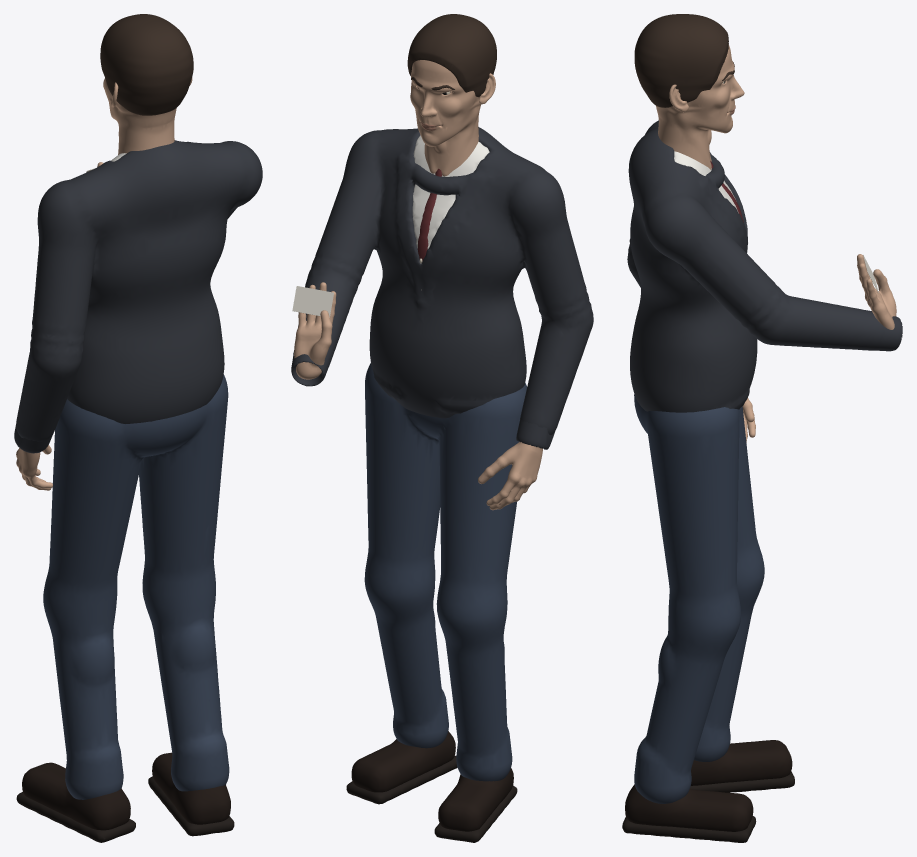
The model's file is goodshoes_card.glb.
The picture shows the model from 3 angles, left to right: view 1: azimuth 30°, elevation 25°; view 2: azimuth 150°, elevation 25°; view 3: azimuth 270°, elevation 25°; orthographic projection. The views are drawn at different scales.
Parts seen in each view (by area): view 1: goodshoes_card_body, goodshoes_card_head, goodshoes_card_hands; view 2: goodshoes_card_body, goodshoes_card_head, goodshoes_card_hands, card; view 3: goodshoes_card_body, goodshoes_card_head, goodshoes_card_hands.
Boxes of the visible parts, x1,y1,x2,y2 form: goodshoes_card_body: (16, 140, 262, 842); goodshoes_card_head: (100, 14, 193, 154); goodshoes_card_hands: (14, 162, 103, 490); goodshoes_card_body: (293, 127, 593, 842); goodshoes_card_head: (407, 14, 496, 176); goodshoes_card_hands: (291, 282, 554, 510); card: (292, 286, 333, 316); goodshoes_card_body: (622, 120, 884, 842); goodshoes_card_head: (634, 14, 744, 169); goodshoes_card_hands: (742, 254, 902, 442).
Bounding box in the file's own units: 0.5515 × 1.78 × 0.5755.
